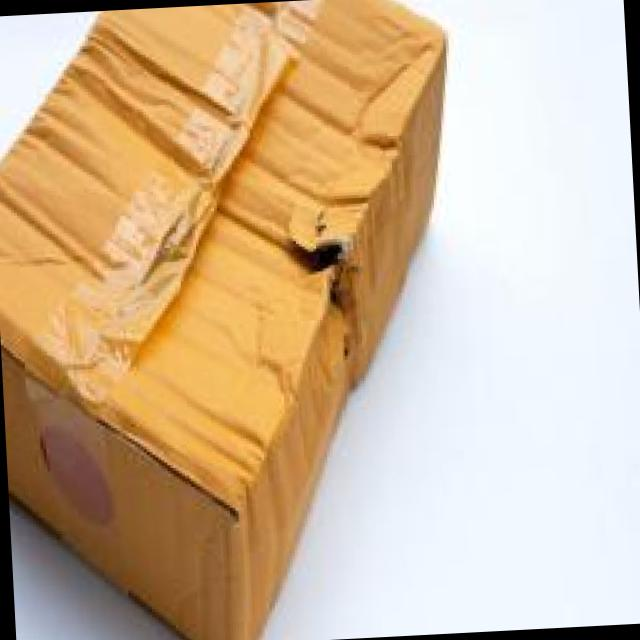box: (100, 85, 536, 562)
